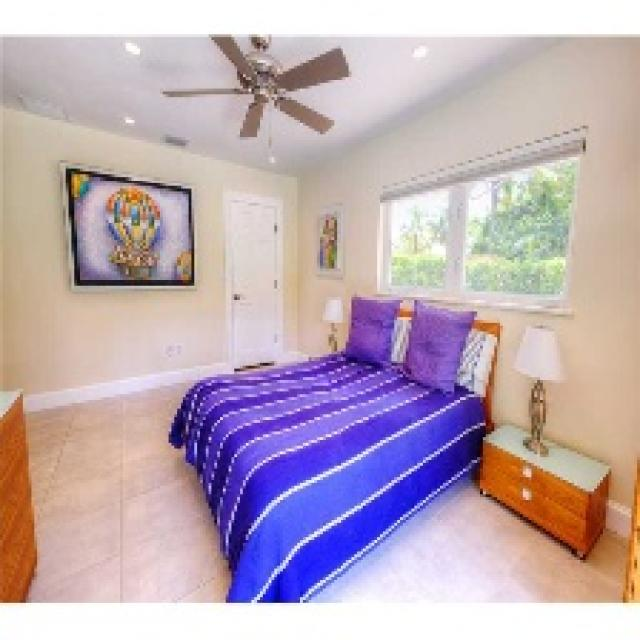Bed: (166, 309, 500, 600)
